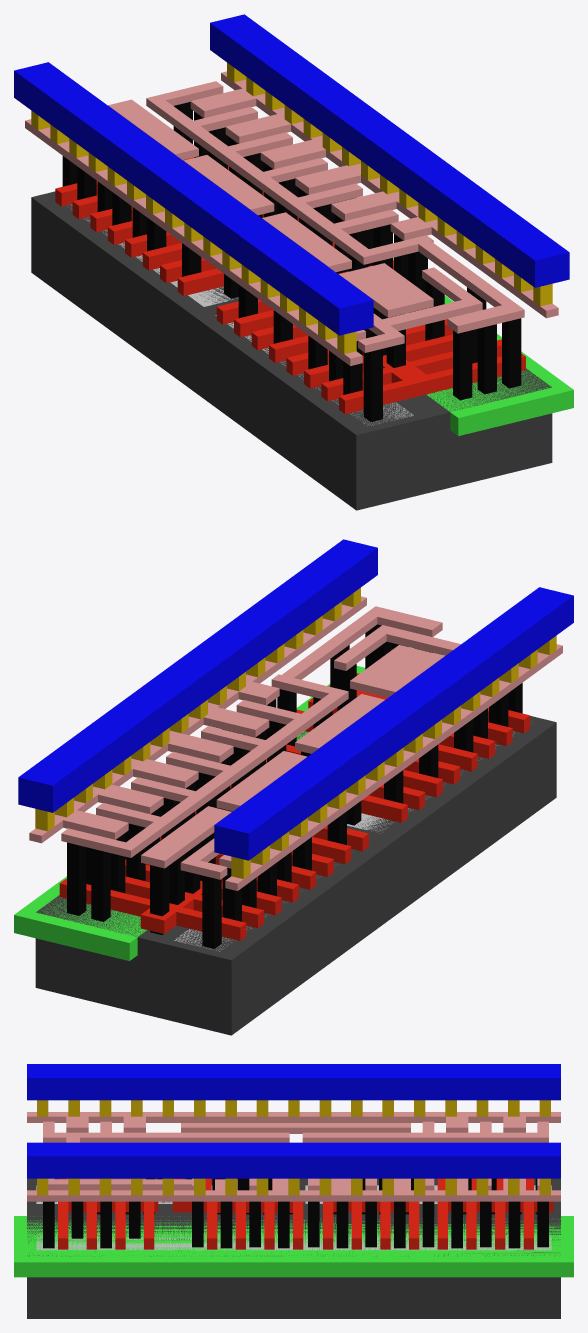
The model's file is sky130_fd_sc_hd__a31oi_4.obj.
3 renders of one model, top to bottom at view 1: azimuth 30°, elevation 25°; view 2: azimuth 150°, elevation 25°; view 3: azimuth 270°, elevation 25°, orthographic. The views are drawn at different scales.
Parts seen in each view (by area): view 1: subs, metal1, li, licon, poly, mcon, nwell, diff; view 2: subs, metal1, li, licon, poly, mcon, nwell, diff; view 3: metal1, subs, li, nwell, poly, licon, mcon, tap.
Part boxes in pixels (bbox=[...]): subs: bbox=[31, 191, 552, 510]; metal1: bbox=[14, 14, 569, 335]; li: bbox=[25, 71, 558, 365]; licon: bbox=[62, 102, 521, 421]; poly: bbox=[55, 157, 525, 414]; mcon: bbox=[31, 62, 552, 353]; nwell: bbox=[393, 257, 573, 435]; diff: bbox=[67, 204, 413, 425]; subs: bbox=[35, 716, 556, 1035]; metal1: bbox=[18, 539, 573, 860]; li: bbox=[29, 596, 562, 890]; licon: bbox=[67, 624, 522, 948]; poly: bbox=[59, 673, 530, 940]; mcon: bbox=[35, 587, 556, 878]; nwell: bbox=[14, 666, 365, 960]; diff: bbox=[174, 731, 518, 951]; metal1: bbox=[27, 1064, 560, 1178]; subs: bbox=[27, 1178, 560, 1318]; li: bbox=[27, 1112, 560, 1201]; nwell: bbox=[14, 1216, 573, 1277]; poly: bbox=[58, 1178, 553, 1249]; licon: bbox=[43, 1178, 548, 1248]; mcon: bbox=[37, 1100, 550, 1195]; tap: bbox=[36, 1231, 551, 1250].
Bounding box in the file's own units: 3.2 × 2.74 × 8.2.
